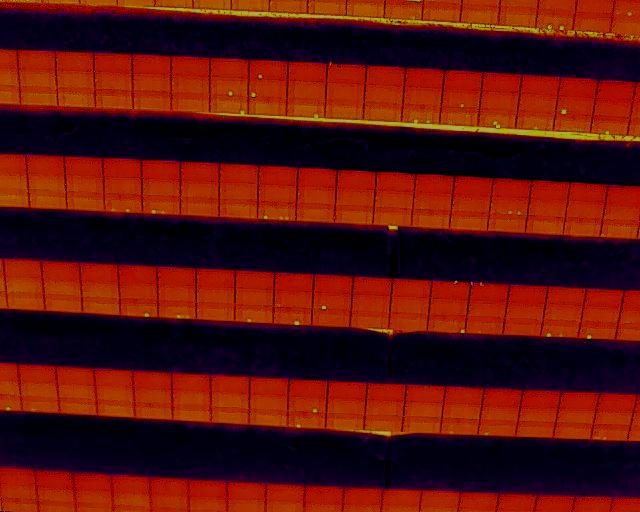Cell: (249, 60, 288, 80), (427, 315, 466, 333), (555, 98, 596, 115), (235, 306, 273, 324), (431, 281, 469, 299), (274, 308, 312, 326), (248, 81, 287, 98), (210, 97, 249, 114), (593, 116, 629, 134), (209, 79, 247, 96), (313, 293, 351, 310), (22, 396, 60, 413), (478, 420, 516, 436), (442, 91, 480, 107), (121, 302, 158, 318), (440, 420, 479, 435), (287, 101, 325, 116), (578, 324, 616, 339), (288, 397, 326, 412), (288, 413, 326, 427)
Cell-Multi: (142, 196, 181, 214), (537, 10, 573, 29), (490, 197, 528, 215), (258, 203, 296, 220), (402, 105, 440, 122), (590, 425, 630, 441), (105, 195, 142, 212), (470, 283, 507, 300), (541, 321, 578, 338), (478, 111, 516, 127), (157, 302, 195, 317)
No-Anomaly: (297, 167, 336, 188), (366, 65, 405, 86), (210, 59, 249, 79), (56, 52, 95, 72), (235, 270, 274, 290), (327, 63, 366, 83), (443, 71, 482, 91), (142, 159, 180, 179), (181, 161, 219, 181), (94, 52, 132, 72), (18, 49, 56, 69), (288, 81, 326, 101), (325, 83, 365, 102), (337, 170, 376, 189), (453, 176, 492, 195), (600, 220, 639, 239), (458, 494, 499, 512), (461, 4, 499, 23), (573, 11, 611, 30), (219, 200, 257, 219), (266, 485, 304, 504), (304, 486, 342, 505), (171, 76, 209, 95), (259, 166, 297, 185), (289, 378, 327, 397), (518, 94, 556, 113), (6, 291, 44, 310), (44, 294, 82, 313), (596, 80, 636, 98), (570, 182, 606, 202), (496, 494, 536, 512), (507, 284, 547, 302), (593, 98, 633, 116), (0, 487, 37, 506), (498, 7, 535, 26), (492, 178, 529, 197), (67, 192, 104, 211), (406, 69, 443, 88), (423, 1, 460, 20), (520, 77, 559, 95), (220, 164, 259, 182), (530, 180, 569, 198), (526, 216, 565, 234), (196, 269, 235, 287), (353, 277, 392, 295), (558, 79, 597, 97), (81, 280, 120, 298), (392, 279, 431, 297), (390, 297, 429, 315), (196, 303, 235, 321), (381, 490, 422, 507), (419, 491, 460, 508), (514, 420, 555, 437), (479, 93, 520, 110), (521, 390, 562, 407), (18, 70, 56, 88), (288, 63, 326, 81), (171, 58, 209, 76), (27, 156, 65, 174), (104, 159, 142, 177), (376, 172, 414, 190), (415, 174, 453, 192), (414, 193, 452, 211), (119, 266, 157, 284), (275, 275, 313, 293), (133, 55, 171, 73), (104, 177, 142, 195), (94, 73, 132, 91), (133, 73, 171, 91), (157, 267, 195, 285), (19, 87, 57, 105), (350, 311, 388, 329), (133, 92, 171, 110), (364, 104, 402, 122), (352, 295, 390, 313), (365, 86, 403, 104), (336, 190, 376, 207), (189, 480, 226, 498), (603, 203, 640, 221), (564, 218, 601, 236), (483, 75, 520, 93), (386, 1, 423, 19), (66, 174, 105, 191), (80, 263, 119, 280), (314, 276, 353, 293), (42, 277, 81, 294), (343, 488, 382, 505), (450, 212, 489, 229), (35, 472, 74, 489), (19, 365, 58, 382), (366, 382, 405, 399), (597, 394, 636, 411), (430, 298, 469, 315), (606, 184, 639, 204), (4, 259, 42, 276), (151, 478, 189, 495), (65, 157, 103, 174), (28, 174, 66, 191), (219, 183, 257, 200), (375, 191, 413, 208), (180, 199, 218, 216), (529, 199, 567, 216), (335, 207, 373, 224), (227, 484, 265, 501), (36, 489, 74, 506), (57, 72, 95, 89), (258, 185, 296, 202), (142, 179, 180, 196), (452, 195, 490, 212), (112, 476, 150, 493), (73, 474, 111, 491), (211, 374, 249, 391), (312, 310, 350, 327), (581, 306, 619, 323), (172, 95, 210, 112), (249, 99, 287, 116), (506, 303, 544, 320), (173, 373, 211, 390), (250, 376, 288, 393), (482, 389, 520, 406), (560, 391, 598, 408), (327, 381, 365, 398), (533, 497, 576, 512), (365, 400, 405, 416), (30, 191, 67, 208), (412, 210, 449, 227), (95, 91, 132, 108), (120, 285, 157, 302), (468, 300, 505, 317), (544, 304, 581, 321), (404, 87, 441, 104), (58, 89, 95, 106), (180, 182, 219, 198), (296, 206, 335, 222), (374, 209, 413, 225), (518, 406, 557, 422), (112, 494, 151, 510), (150, 496, 189, 512), (297, 189, 336, 205), (593, 410, 632, 426), (405, 386, 444, 402), (20, 382, 59, 398), (59, 399, 98, 415), (572, 497, 613, 512), (548, 286, 584, 303), (585, 289, 621, 306), (467, 318, 503, 335), (566, 202, 604, 218), (442, 403, 480, 419), (326, 102, 364, 118), (158, 286, 196, 302), (82, 298, 120, 314), (445, 387, 483, 403), (211, 392, 249, 408), (250, 394, 288, 410), (347, 0, 384, 16), (489, 215, 526, 231), (0, 471, 37, 487), (75, 492, 112, 508), (58, 367, 95, 383), (554, 116, 591, 132), (98, 401, 135, 417), (5, 276, 44, 291), (402, 418, 441, 433), (440, 108, 479, 123), (516, 113, 555, 128), (57, 384, 96, 399), (96, 386, 135, 401), (326, 398, 365, 413), (42, 261, 80, 276), (211, 409, 249, 424), (250, 411, 288, 426), (326, 414, 364, 429), (554, 423, 592, 438), (405, 402, 443, 417), (389, 314, 427, 329), (235, 290, 273, 305), (503, 320, 541, 335), (95, 370, 133, 385), (134, 373, 172, 388), (363, 416, 403, 430), (136, 404, 173, 419), (173, 405, 210, 420), (196, 288, 235, 302), (274, 293, 313, 307), (557, 408, 593, 423), (173, 390, 211, 404), (135, 389, 172, 403), (481, 406, 520, 419)
